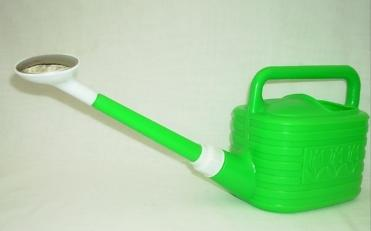ARROSOIR: (0, 4, 370, 231)
